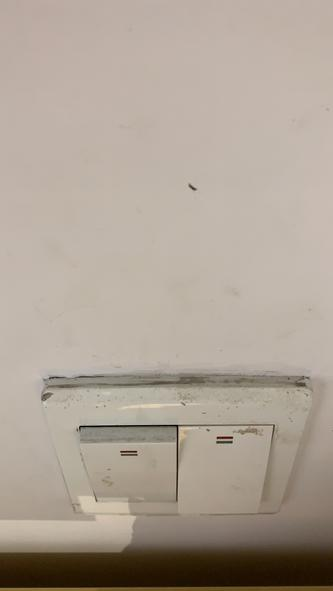switch: (176, 424, 271, 516), (79, 425, 177, 508)
